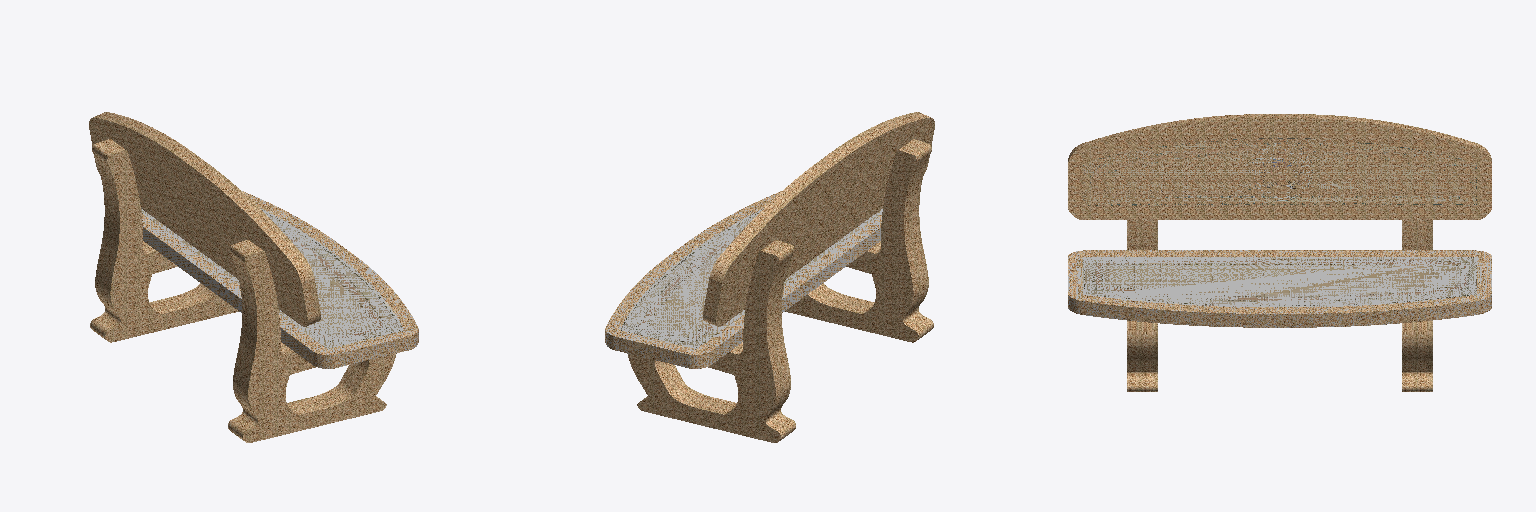
3 renders of one model, left to right at view 1: azimuth 30°, elevation 25°; view 2: azimuth 150°, elevation 25°; view 3: azimuth 270°, elevation 25°, orthographic.
Visible parts, largest first — view 1: mesh8.001_mesh8-geometry, mesh7.001_mesh7-geometry, mesh1.001_mesh1-geometry, mesh4.001_mesh4-geometry; view 2: mesh8.001_mesh8-geometry, mesh7.001_mesh7-geometry, mesh4.001_mesh4-geometry, mesh1.001_mesh1-geometry; view 3: mesh8.001_mesh8-geometry, mesh7.001_mesh7-geometry, mesh4.001_mesh4-geometry, mesh1.001_mesh1-geometry.
Part boxes in pixels (left/top/right/bottom): mesh8.001_mesh8-geometry: left=89, top=112, right=320, bottom=326; mesh7.001_mesh7-geometry: left=141, top=191, right=418, bottom=368; mesh1.001_mesh1-geometry: left=228, top=240, right=396, bottom=442; mesh4.001_mesh4-geometry: left=90, top=139, right=238, bottom=342; mesh8.001_mesh8-geometry: left=703, top=112, right=934, bottom=326; mesh7.001_mesh7-geometry: left=605, top=191, right=882, bottom=368; mesh4.001_mesh4-geometry: left=627, top=240, right=795, bottom=442; mesh1.001_mesh1-geometry: left=785, top=139, right=933, bottom=342; mesh8.001_mesh8-geometry: left=1068, top=114, right=1491, bottom=219; mesh7.001_mesh7-geometry: left=1068, top=250, right=1491, bottom=327; mesh4.001_mesh4-geometry: left=1402, top=220, right=1432, bottom=391; mesh1.001_mesh1-geometry: left=1127, top=220, right=1157, bottom=391.
Bounding box in the file's own units: 0.3881 × 0.461 × 0.798.
4 materials, 3 textured.